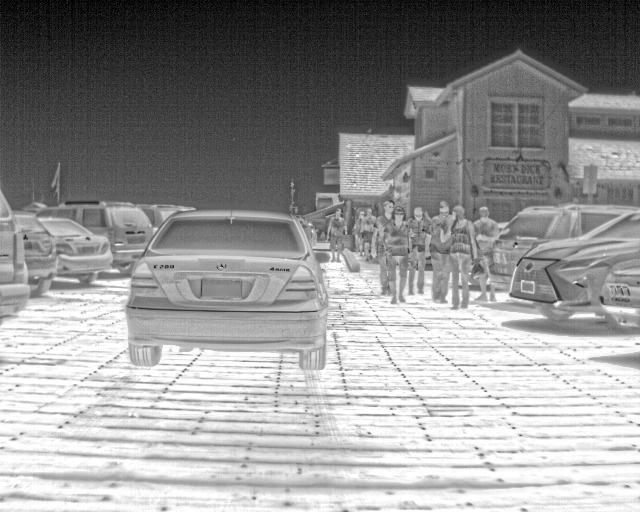bicycle: (122, 209, 333, 366), (507, 210, 638, 321), (490, 201, 637, 294), (33, 202, 153, 276), (40, 217, 115, 286), (1, 189, 33, 321), (15, 209, 59, 295), (134, 202, 183, 230)
empty: (443, 206, 477, 307), (470, 202, 500, 301), (428, 200, 454, 304), (373, 202, 396, 296), (387, 213, 410, 303), (408, 203, 428, 293), (325, 207, 349, 259), (361, 205, 379, 258), (351, 209, 365, 253)
